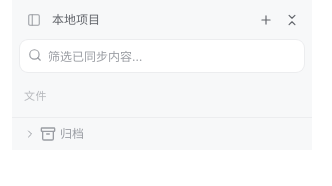
Test: focuses the inline name row started from the sidebar 新建 menu
Press the mouse on the button named "新建" at (266,20), box [254,8,278,32]
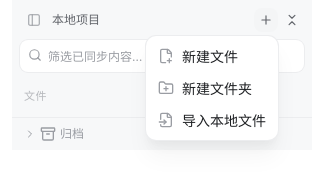
Click the menu item "新建文件". click: (198,56)
box: [158,48,238,64]
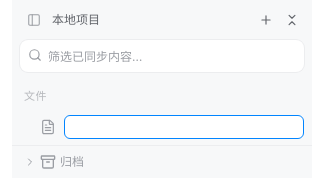
Check: the field named "新文件名称" is shown, box [64,114,304,138]
